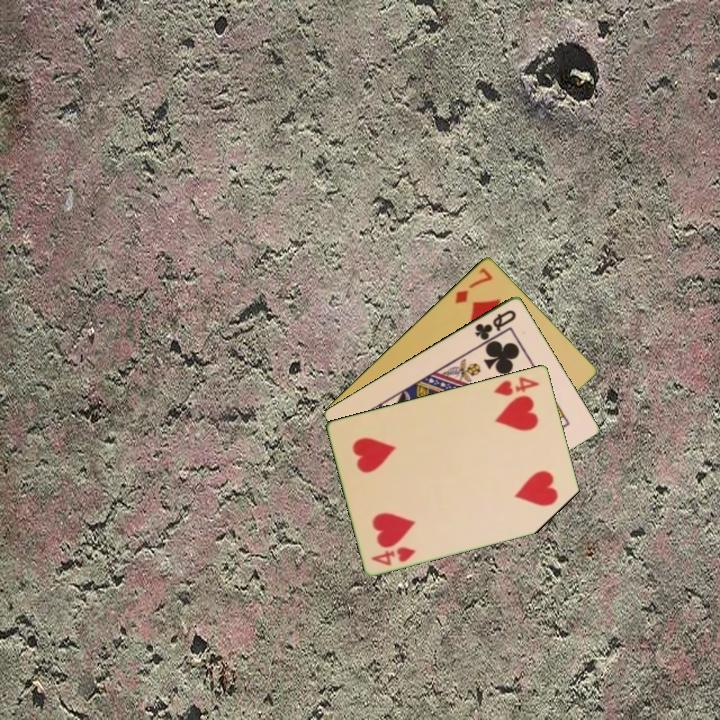4h: (490, 373, 543, 398), (368, 543, 419, 568)
7d: (451, 264, 495, 306)
Qc: (471, 306, 519, 343)
